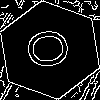O: (25, 25, 80, 71)
